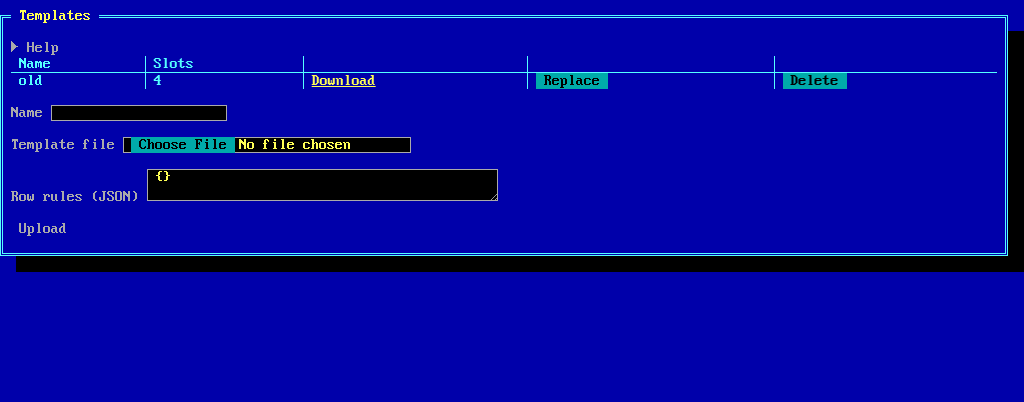
a binding with no stale key adds no stale line, and an unchanged slot set reads none
Click the button "Replace" at (572, 81), box left=536, top=73, right=608, bottom=89
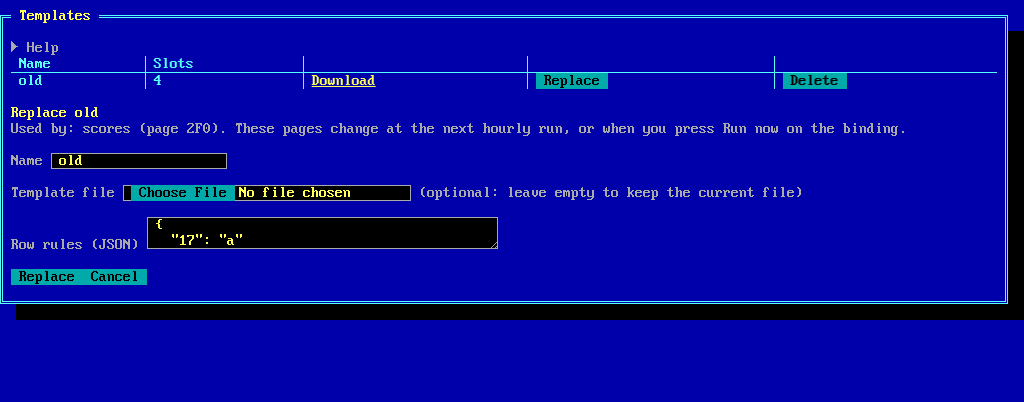
Submit the form, box left=11, top=105, right=997, bottom=285
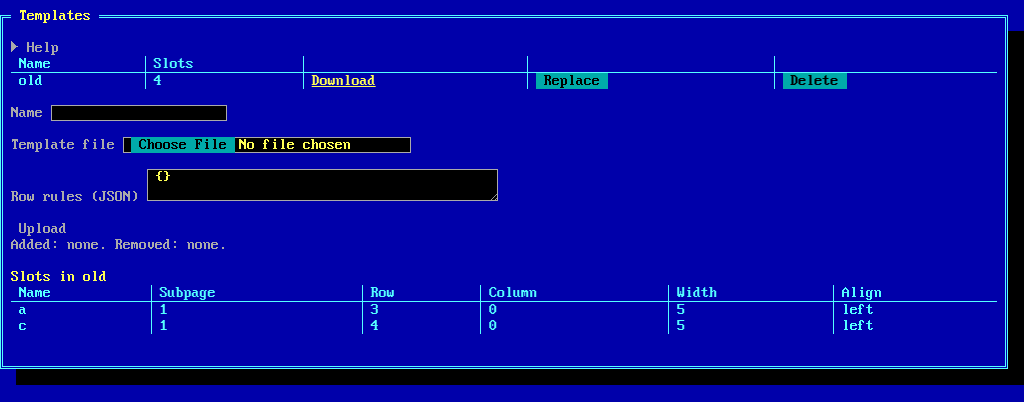
Check: the text with class "changes" reads "Added: none. Removed: none.", box left=11, top=237, right=227, bottom=253
